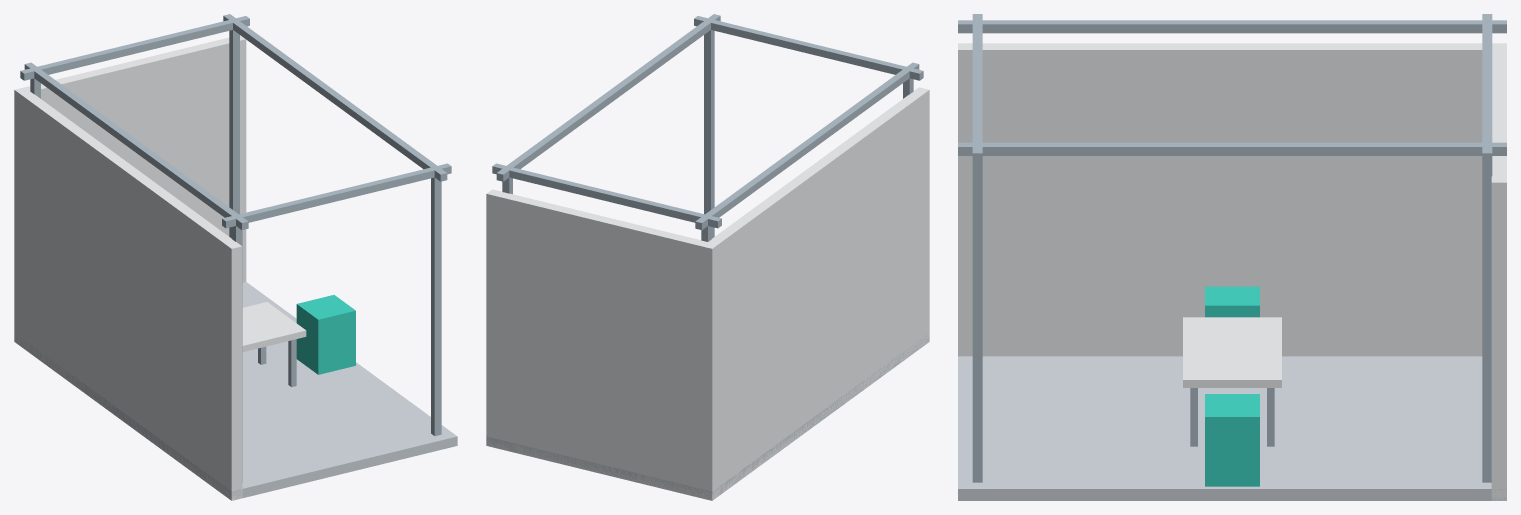
The picture shows the model from 3 angles, left to right: view 1: azimuth 30°, elevation 25°; view 2: azimuth 150°, elevation 25°; view 3: azimuth 270°, elevation 25°; orthographic projection. The views are drawn at different scales.
Parts seen in each view (by area): view 1: Exhibition Booth Concept; view 2: Exhibition Booth Concept; view 3: Exhibition Booth Concept.
Boxes of the visible parts, x1,y1,x2,y2 form: Exhibition Booth Concept: (14,14,457,500); Exhibition Booth Concept: (486,14,929,500); Exhibition Booth Concept: (958,14,1506,500).
Size of the model in its own units: 3 by 3.49 by 5.
